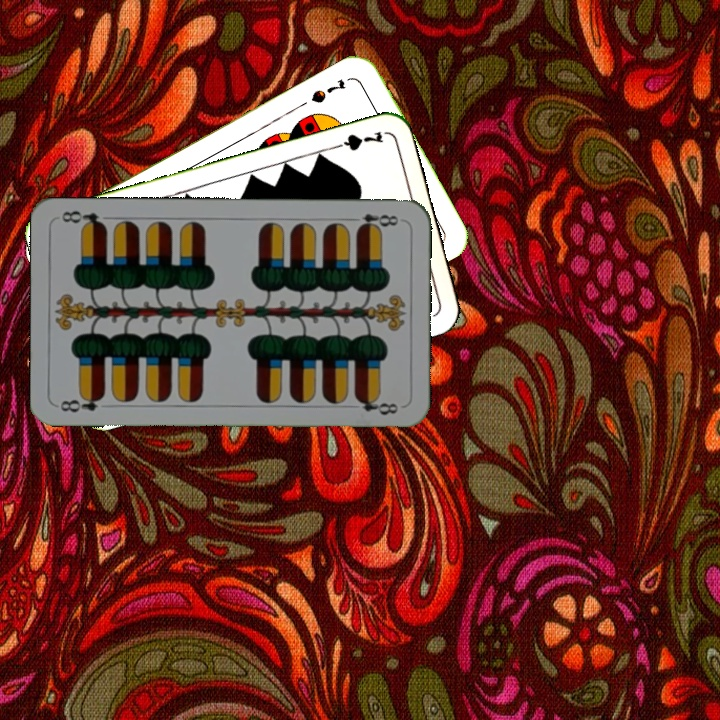E8: (345, 210, 401, 233), (56, 391, 107, 415)
G7: (327, 127, 386, 154)
S7: (307, 74, 349, 106)
